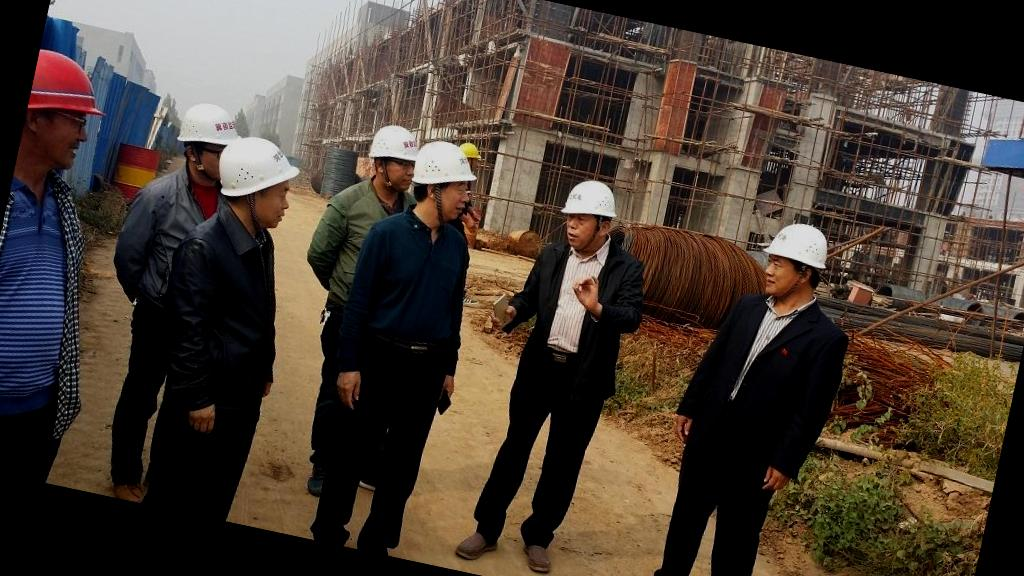helmet: (20, 37, 121, 156), (208, 127, 308, 214), (750, 209, 836, 306), (544, 166, 631, 253), (403, 136, 489, 215), (163, 88, 244, 170), (358, 114, 431, 184)
no_vest: (147, 201, 302, 418), (691, 282, 848, 485), (0, 162, 114, 429), (342, 204, 487, 382), (518, 240, 644, 382)
person: (304, 128, 514, 564), (457, 170, 675, 576), (635, 202, 865, 576), (120, 123, 332, 528), (0, 38, 153, 487)
